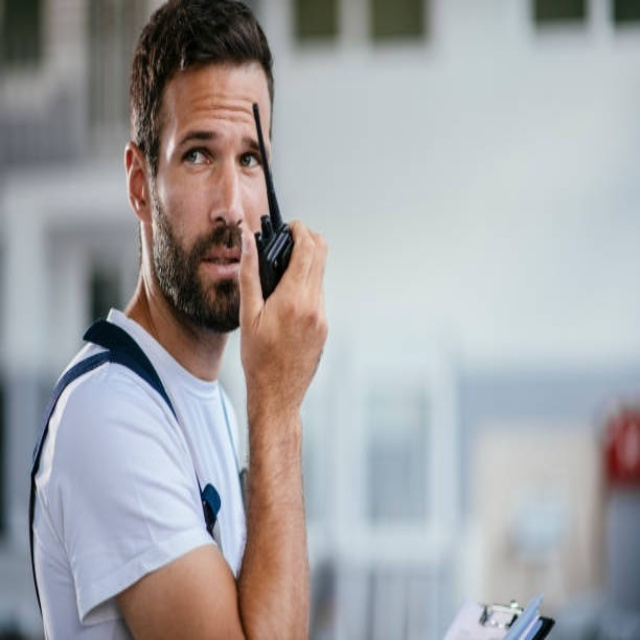Sin_gafas: (173, 119, 268, 187)
Sin_guantes: (241, 212, 334, 422)
Sin_mascara: (188, 234, 239, 311)
